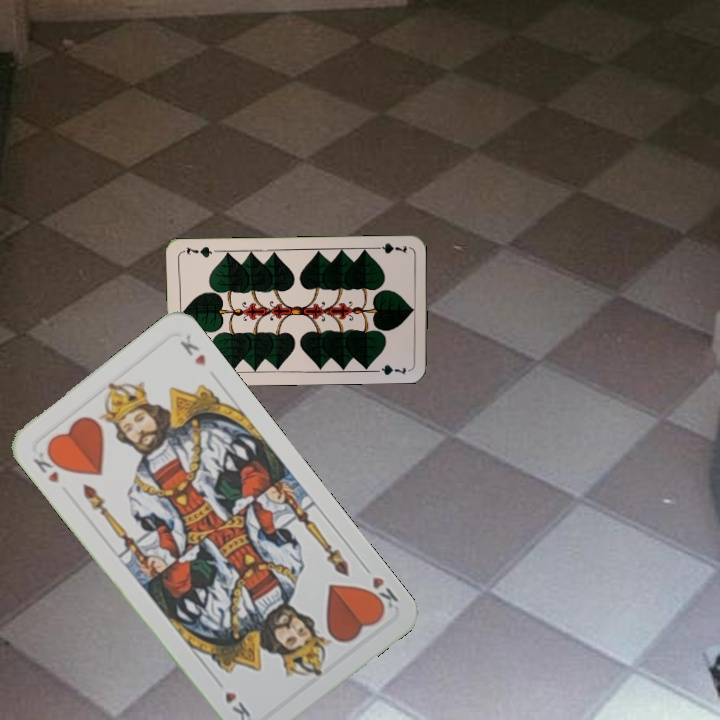G7: (369, 239, 410, 256)
HK: (358, 559, 401, 615), (29, 445, 67, 486)
